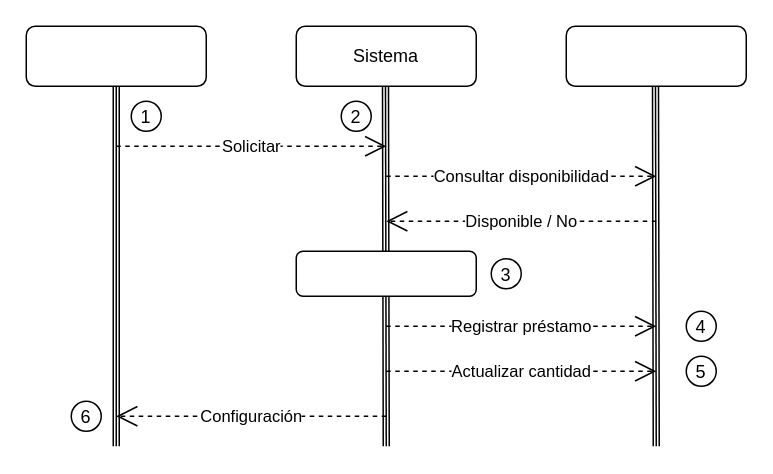
Some shapes in this 773 by 474 pixel diagram are drawn without their labels. Here are the shapes that lost their labels. From the top down, the centre of each, then its label:
point 115,55: Cliente
point 655,55: BD
point 385,273: Si disponible
